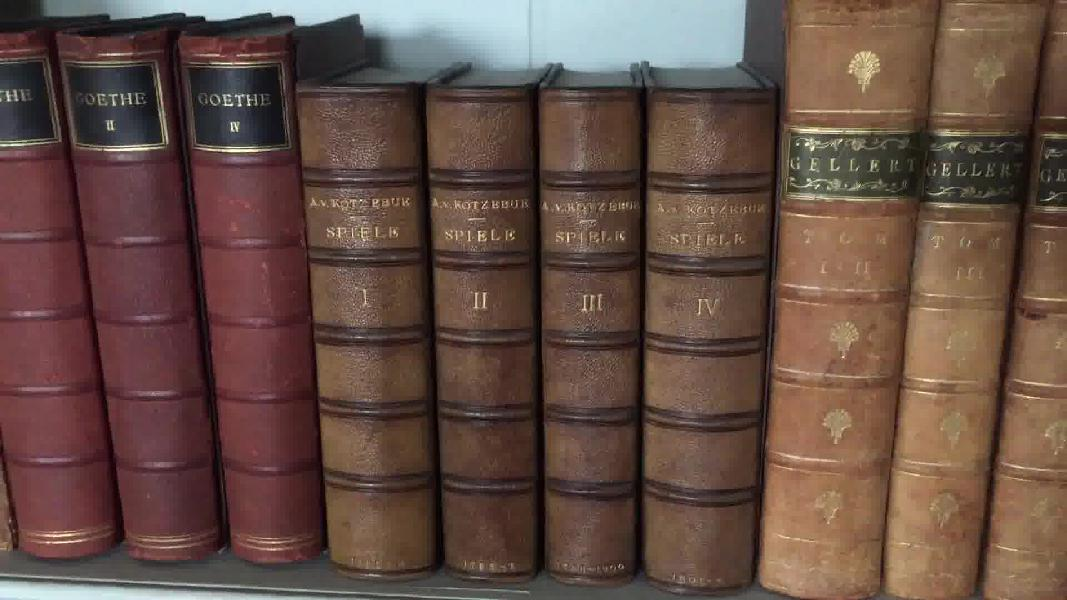Aa6-11_13: (1, 21, 313, 565)
Aa6-14_17: (286, 81, 778, 600)
